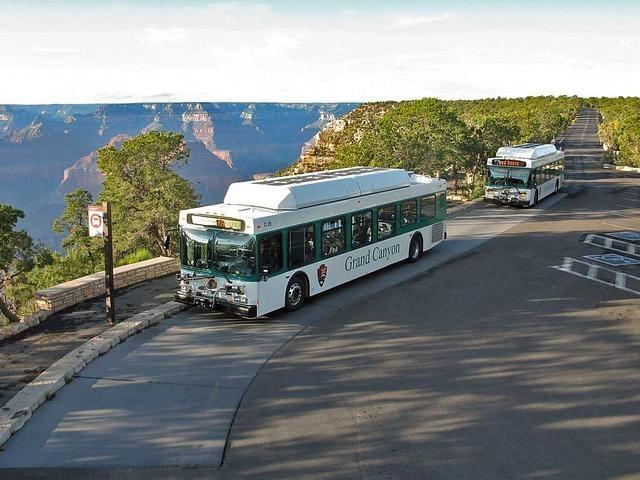bus: (174, 162, 448, 320), (482, 140, 567, 207)
